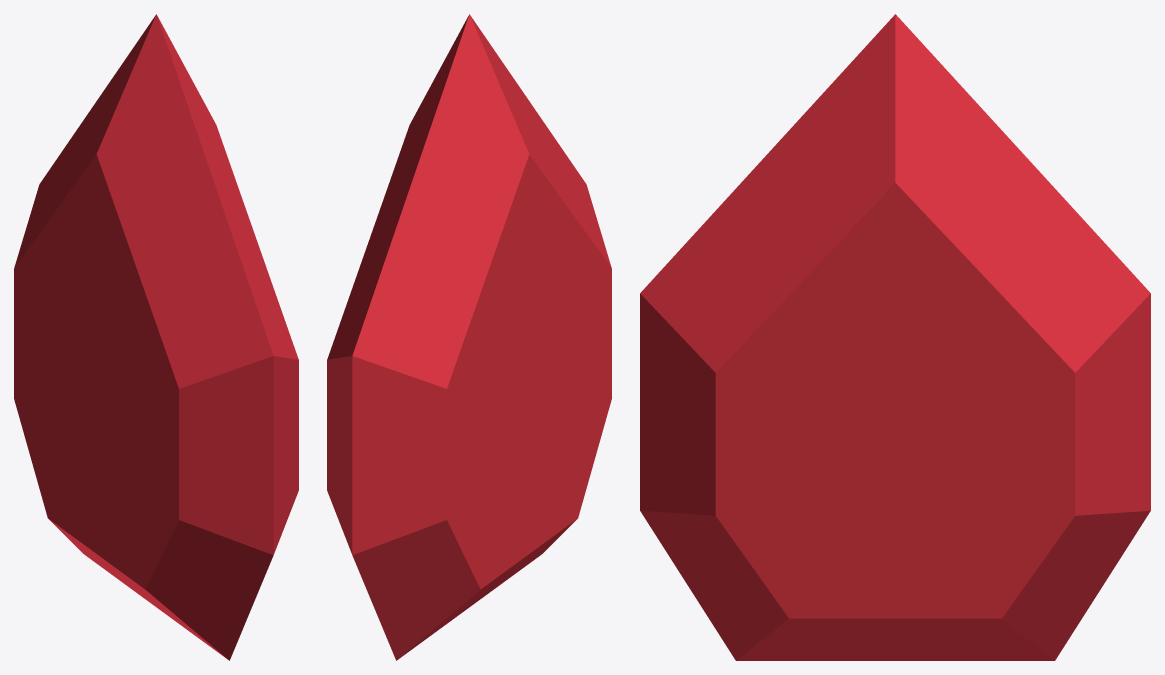
File: mendiane.obj
The picture shows the model from 3 angles, left to right: view 1: azimuth 30°, elevation 25°; view 2: azimuth 150°, elevation 25°; view 3: azimuth 270°, elevation 25°; orthographic projection. The views are drawn at different scales.
Visible parts, largest first — view 1: Garnet_Plane.002; view 2: Garnet_Plane.002; view 3: Garnet_Plane.002.
Part boxes in pixels (x1,y1,x2,y2): Garnet_Plane.002: [14, 14, 298, 660]; Garnet_Plane.002: [327, 14, 611, 660]; Garnet_Plane.002: [640, 14, 1150, 660].
Bounding box in the file's own units: 0.2121 × 1 × 0.7185.
